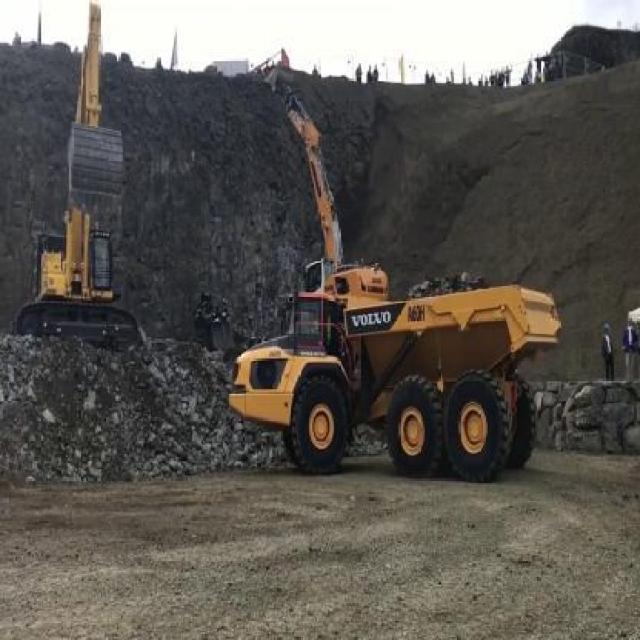Dump Truck: (224, 274, 562, 483)
Excavator: (10, 1, 144, 348), (260, 57, 388, 320)
